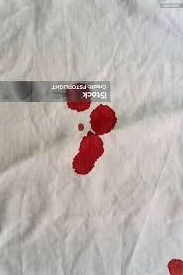blood: (72, 131, 104, 176), (89, 105, 119, 129), (66, 83, 92, 110), (166, 257, 182, 274)
